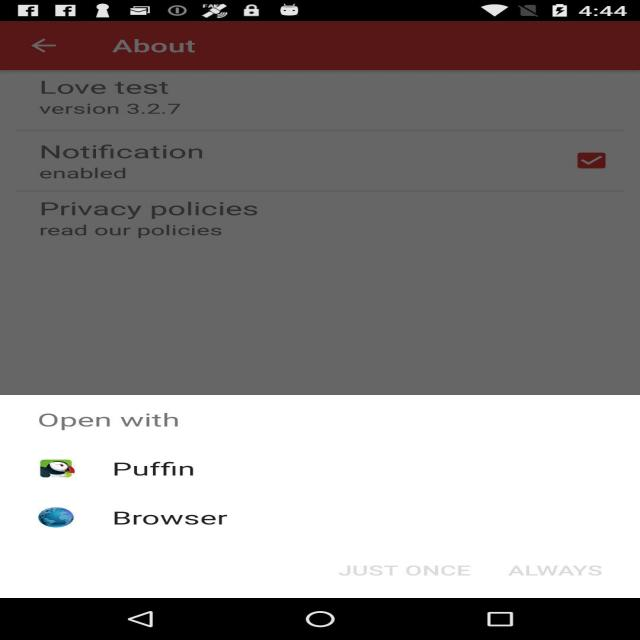icon: (471, 602, 533, 635), (288, 605, 350, 634), (115, 608, 177, 631), (17, 34, 65, 62)
image: (27, 498, 89, 528), (32, 452, 89, 484), (572, 146, 610, 176)
text: (29, 194, 259, 243), (27, 138, 230, 181), (24, 80, 220, 121), (27, 409, 202, 433), (107, 507, 246, 532), (110, 459, 212, 485), (101, 38, 210, 58), (262, 240, 267, 242)
